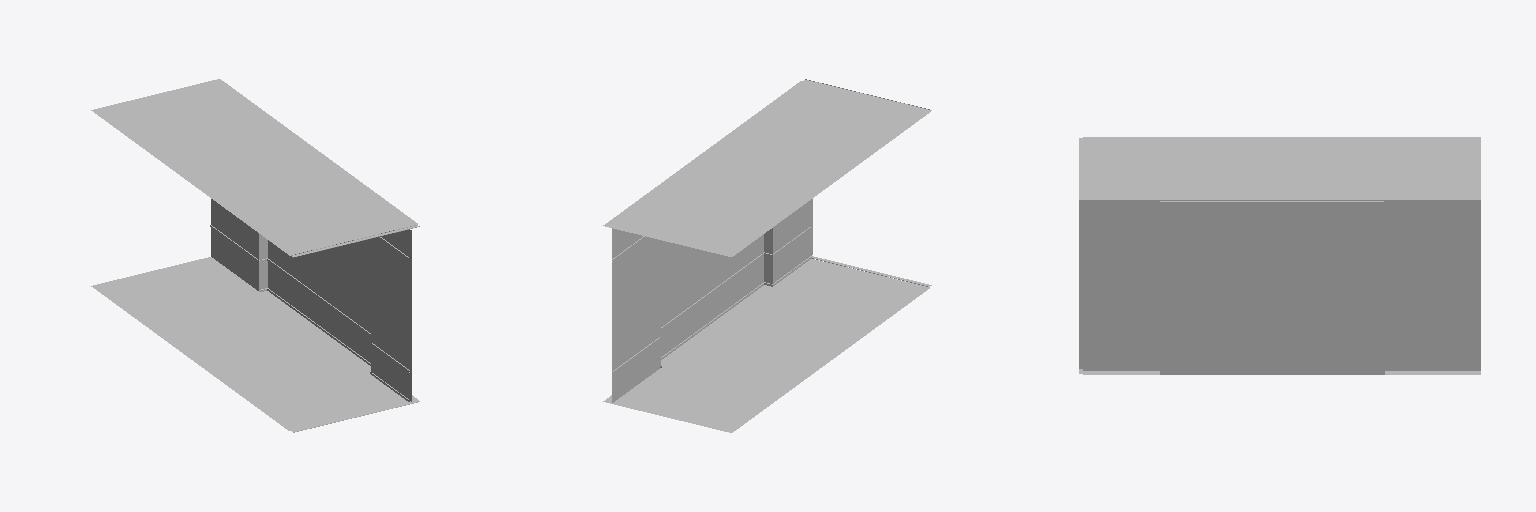
The model's file is wall_03_rt.obj.
The picture shows the model from 3 angles: view 1: azimuth 30°, elevation 25°; view 2: azimuth 150°, elevation 25°; view 3: azimuth 270°, elevation 25°; orthographic projection.
Parts seen in each view (by area): view 1: wall_03_rt; view 2: wall_03_rt; view 3: wall_03_rt.
Boxes of the visible parts, box(x1,y1,x2,y2) form: wall_03_rt: box(91, 79, 419, 432); wall_03_rt: box(603, 79, 931, 432); wall_03_rt: box(1079, 137, 1480, 374).
Size of the model in its own units: 183 by 238 by 493.